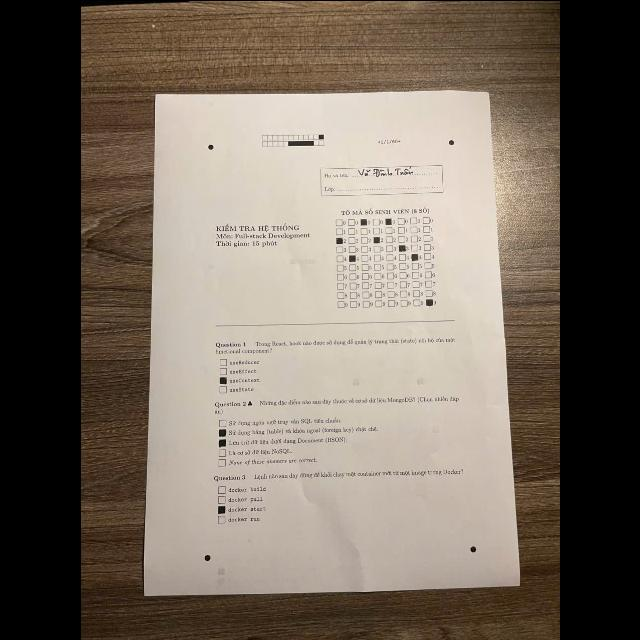Markers: (204, 554, 210, 562), (469, 546, 476, 552), (207, 143, 213, 149), (448, 139, 454, 145)
